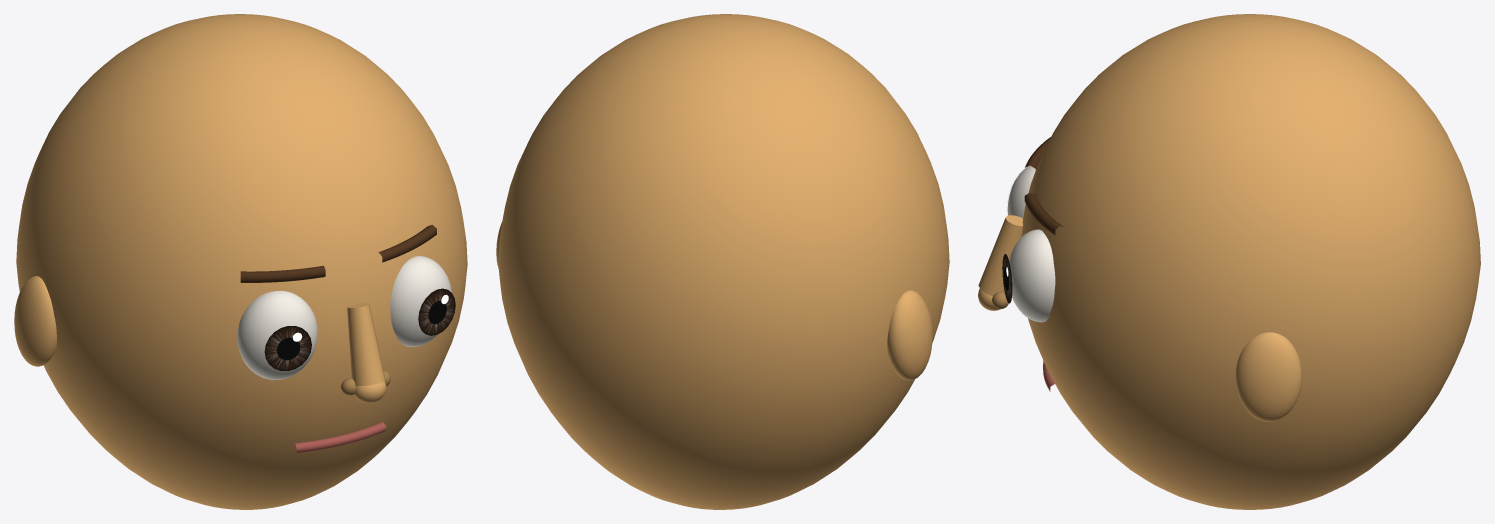
File: 04-droits.glb
The picture shows the model from 3 angles, left to right: view 1: azimuth 30°, elevation 25°; view 2: azimuth 150°, elevation 25°; view 3: azimuth 270°, elevation 25°; orthographic projection.
Size of the model in its own units: 0.3087 by 0.321 by 0.3166.
Materials: 9 (1 with a texture image).
